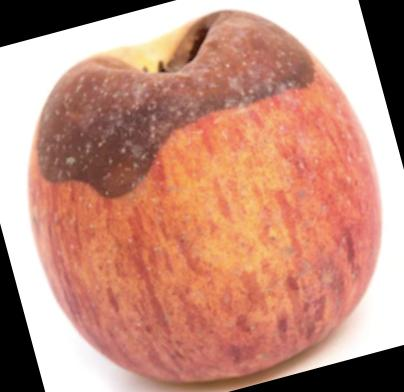Apple: (33, 13, 380, 375)
